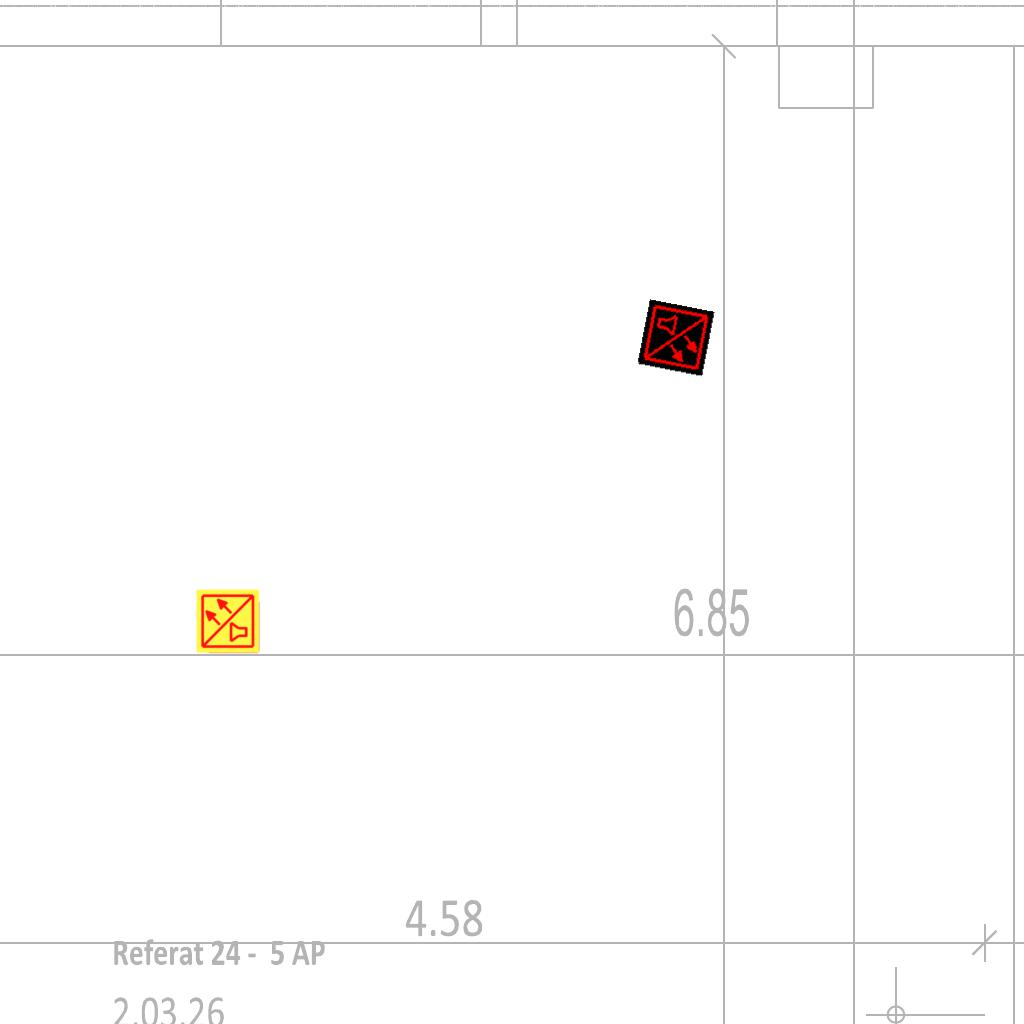OKW_Multisensormelder_(Kombination_optischer_Rauch-Kahlenmonoxid_Waerme-Melder): (637, 299, 715, 377), (195, 588, 261, 654)
